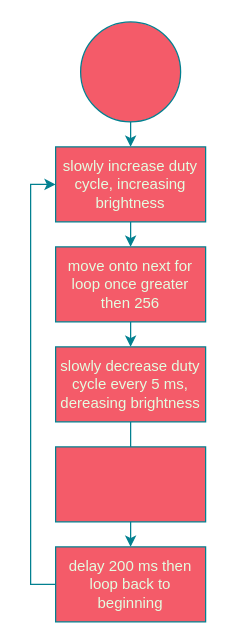
The diagram is 228 pixels wide and 644 high, and some of its shapes have lost their labels. The shapes that lost their labels are listed below. From the top down, each one's box as (x1, y1, x2, y2) in pixels, then its label:
(79, 21, 181, 122): start
(54, 446, 206, 522): read next section of code once for loop hits 0
